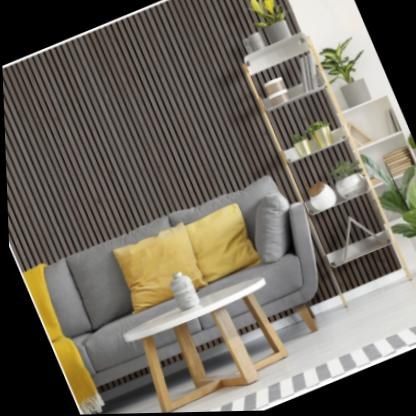Sofa: (15, 165, 346, 416)
Wall Panel: (0, 0, 354, 281)
